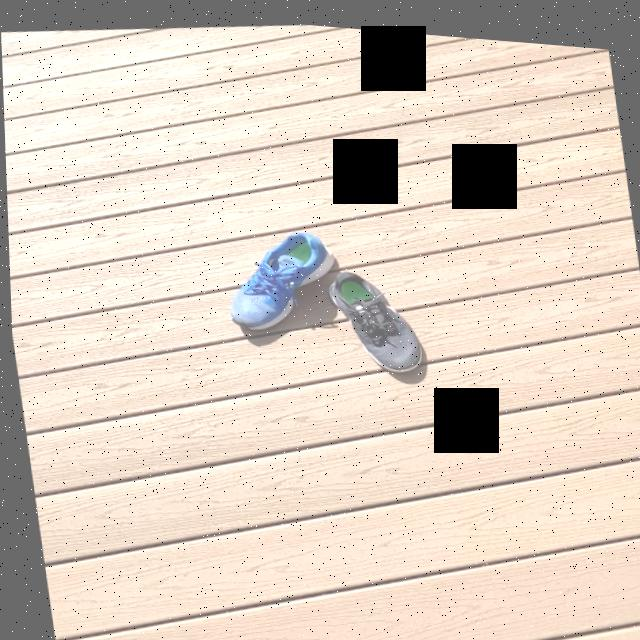shoe: (228, 227, 404, 345)
